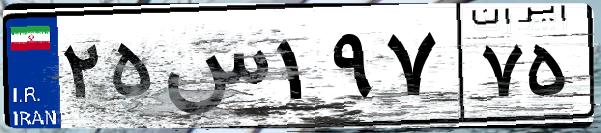1: (270, 28, 330, 110)
2: (57, 26, 110, 100)
5: (525, 38, 570, 115), (110, 28, 158, 98)
7: (385, 28, 445, 110), (475, 38, 525, 113)
9: (330, 28, 385, 110)
س: (158, 20, 270, 120)
